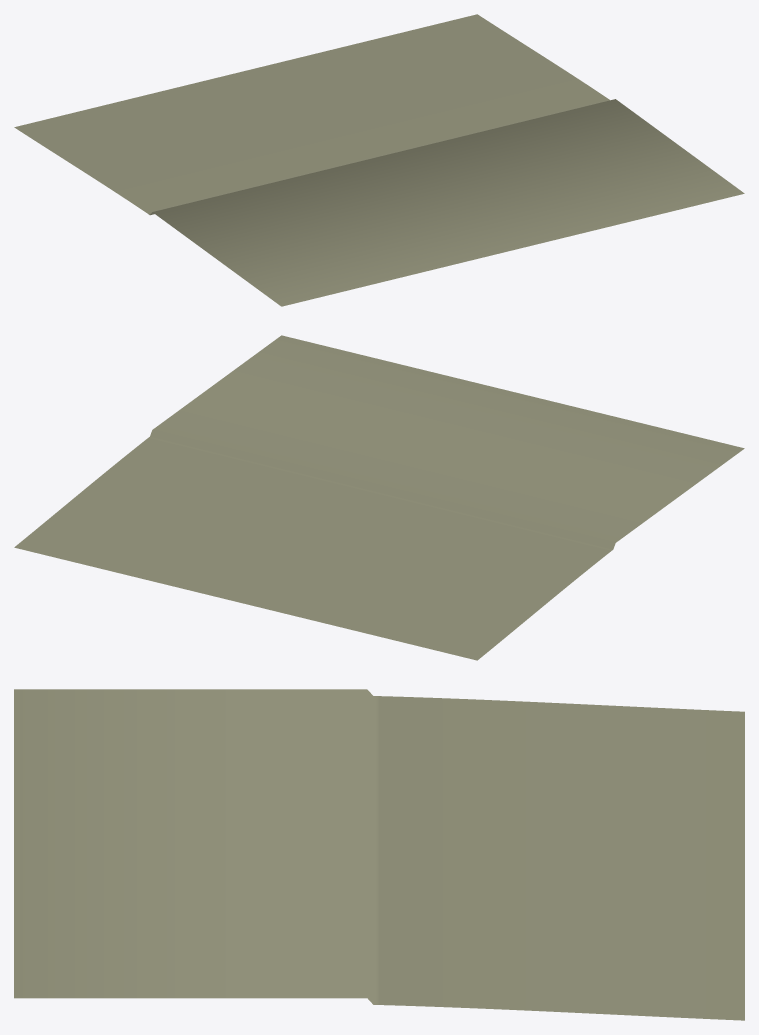
File: SM_VB_CityTerrain_3_2.fbx
3 views of the same model, one above another, from view 1: azimuth 30°, elevation 25°; view 2: azimuth 150°, elevation 25°; view 3: azimuth 270°, elevation 25° (orthographic). The views are drawn at different scales.
Visible parts, largest first — view 1: SM_VB_CityTerrain_3_2; view 2: SM_VB_CityTerrain_3_2; view 3: SM_VB_CityTerrain_3_2.
Part boxes in pixels (left/top/right/bottom): SM_VB_CityTerrain_3_2: left=14, top=14, right=744, bottom=306; SM_VB_CityTerrain_3_2: left=14, top=335, right=744, bottom=660; SM_VB_CityTerrain_3_2: left=14, top=689, right=744, bottom=1020.
Size of the model in its own units: 600 by 20.29 by 600.
